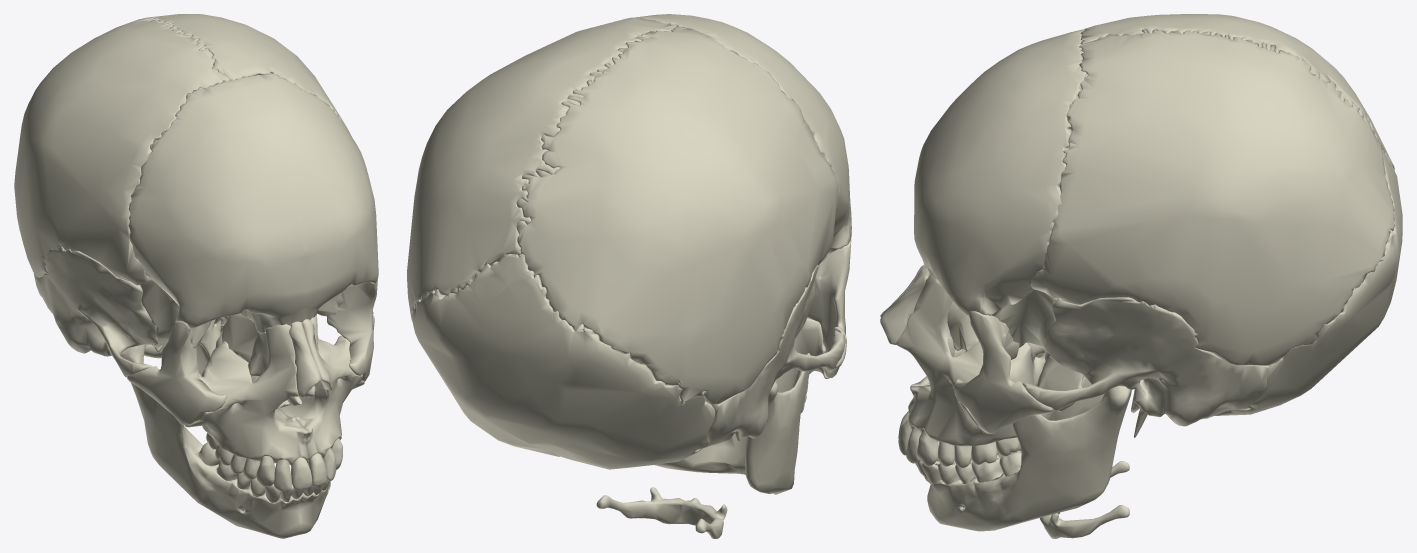
File: head.glb
3 renders of one model, left to right at view 1: azimuth 30°, elevation 25°; view 2: azimuth 150°, elevation 25°; view 3: azimuth 270°, elevation 25°, orthographic. The views are drawn at different scales.
Visible parts, largest first — view 1: Frontal_bone, Parietal_boner, Maxillar, Temporal_boner, Mandible, Parietal_bonel, Zygomatic_boner, Maxillal, Sphenoid_bone, Zygomatic_bonel, Nasal_boner, Ethmoid_bone (+6 smaller); view 2: Parietal_boner, Occipital_bone, Parietal_bonel, Frontal_bone, Mandible, Temporal_boner, Zygomatic_boner, Hyoid_bone, Maxillar; view 3: Parietal_bonel, Frontal_bone, Temporal_bonel, Mandible, Maxillal, Occipital_bone, Parietal_boner, Zygomatic_bonel, Sphenoid_bone, Hyoid_bone, Nasal_bonel, Lacrimal_bonel.
Boxes of the visible parts, x1,y1,x2,y2 form: Frontal_bone: (128, 73, 378, 333); Parietal_boner: (14, 17, 229, 285); Maxillar: (185, 324, 308, 465); Temporal_boner: (33, 246, 157, 377); Mandible: (120, 313, 330, 538); Parietal_bonel: (141, 14, 352, 138); Zygomatic_boner: (127, 321, 226, 425); Maxillal: (278, 315, 364, 460); Sphenoid_bone: (140, 277, 343, 375); Zygomatic_bonel: (326, 279, 377, 381); Nasal_boner: (289, 321, 320, 397); Ethmoid_bone: (221, 313, 265, 362); Parietal_boner: (516, 26, 838, 404); Occipital_bone: (412, 254, 715, 469); Parietal_bonel: (407, 17, 676, 322); Frontal_bone: (635, 14, 851, 253); Mandible: (654, 353, 810, 494); Temporal_boner: (699, 263, 845, 449); Zygomatic_boner: (807, 239, 851, 378); Hyoid_bone: (596, 487, 727, 538); Maxillar: (776, 318, 829, 392); Parietal_bonel: (1030, 29, 1395, 365); Frontal_bone: (914, 29, 1087, 316); Temporal_bonel: (1022, 297, 1269, 437); Mandible: (924, 376, 1131, 531); Maxillal: (896, 275, 1034, 446); Occipital_bone: (1215, 149, 1402, 415); Parietal_boner: (1071, 14, 1394, 169); Zygomatic_bonel: (953, 311, 1053, 433); Sphenoid_bone: (995, 289, 1083, 411); Hyoid_bone: (1039, 461, 1129, 538); Nasal_bonel: (880, 267, 929, 344); Lacrimal_bonel: (947, 301, 978, 351).
Bounding box in the file's own units: 0.1487 × 0.2139 × 0.2036.
